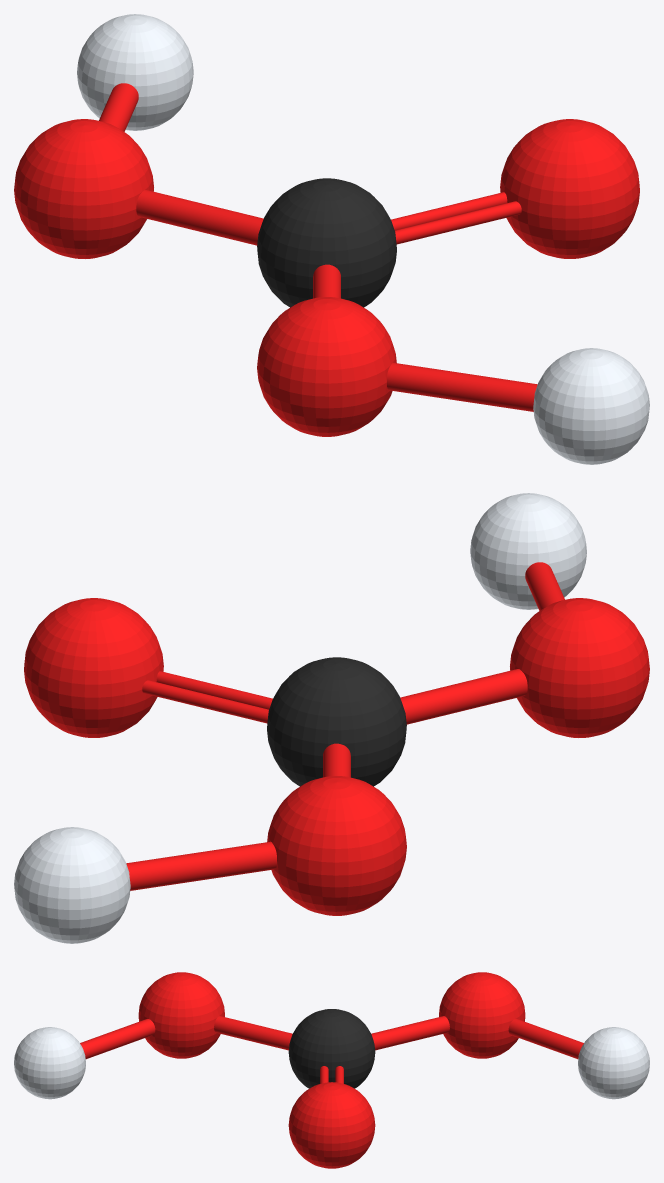
File: carbonic_acid.fbx
3 views of the same model, one above another, from view 1: azimuth 30°, elevation 25°; view 2: azimuth 150°, elevation 25°; view 3: azimuth 270°, elevation 25° (orthographic). The views are drawn at different scales.
Visible parts, largest first — view 1: carbonic_acid; view 2: carbonic_acid; view 3: carbonic_acid.
Part boxes in pixels (x1=…): carbonic_acid: x1=14, y1=14, x2=649, y2=464; carbonic_acid: x1=14, y1=493, x2=649, y2=943; carbonic_acid: x1=14, y1=972, x2=649, y2=1168.
Bounding box in the file's own units: 144 × 36 × 264.
